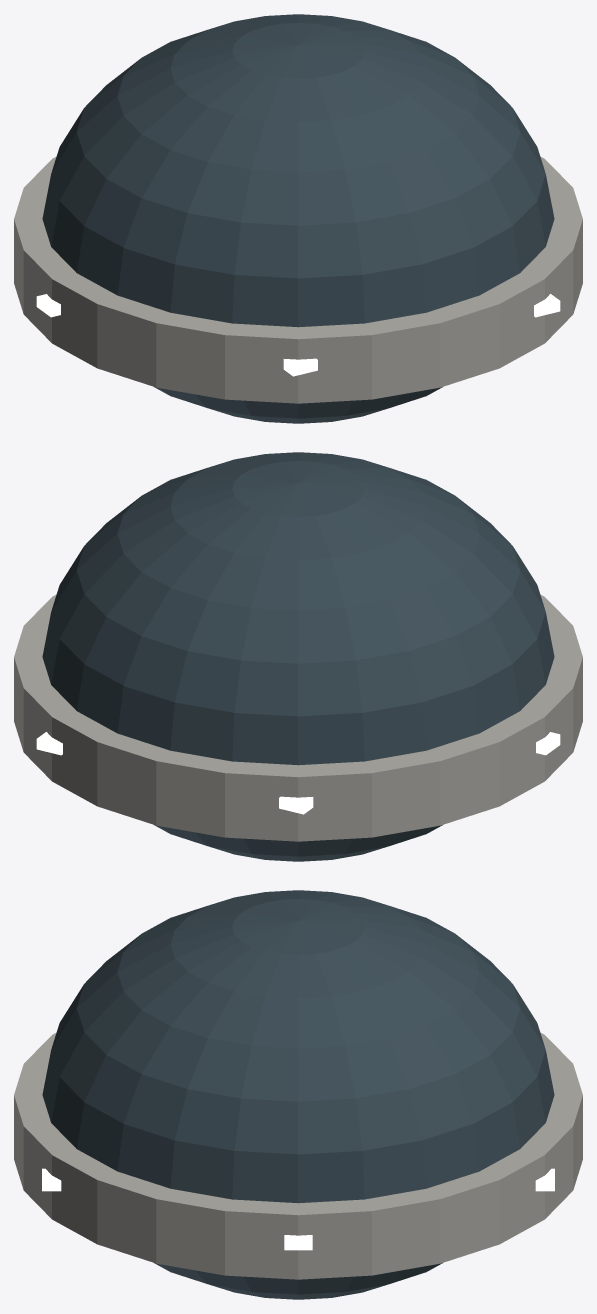
File: hab_dome.glb
The picture shows the model from 3 angles, top to bottom: view 1: azimuth 30°, elevation 25°; view 2: azimuth 150°, elevation 25°; view 3: azimuth 270°, elevation 25°; orthographic projection.
Parts seen in each view (by area): view 1: hab_dome; view 2: hab_dome; view 3: hab_dome.
Part boxes in pixels (box(x1,y1,x2,y2)): hab_dome: box(14, 14, 582, 423); hab_dome: box(14, 452, 582, 861); hab_dome: box(14, 890, 582, 1299).
Bounding box in the file's own units: 12.4 × 8.1 × 12.
